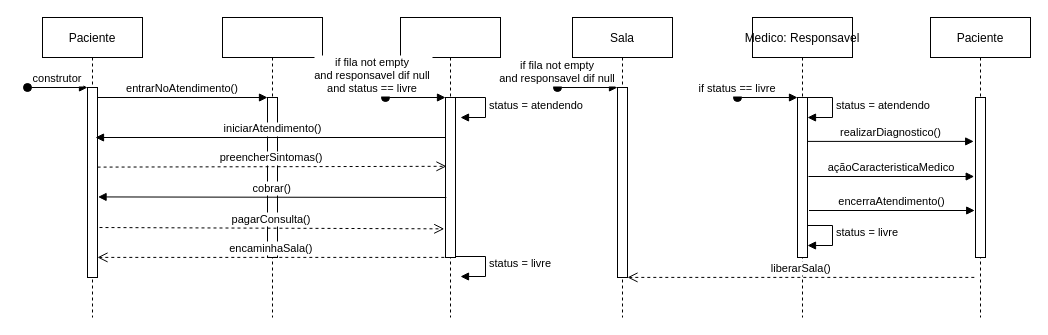
This 1048x335 diagram has some shape labels left out. Each missing label, with the box of its shape:
Atendente: (400, 16, 500, 318)
Sala:Atendimento: (222, 16, 322, 318)
